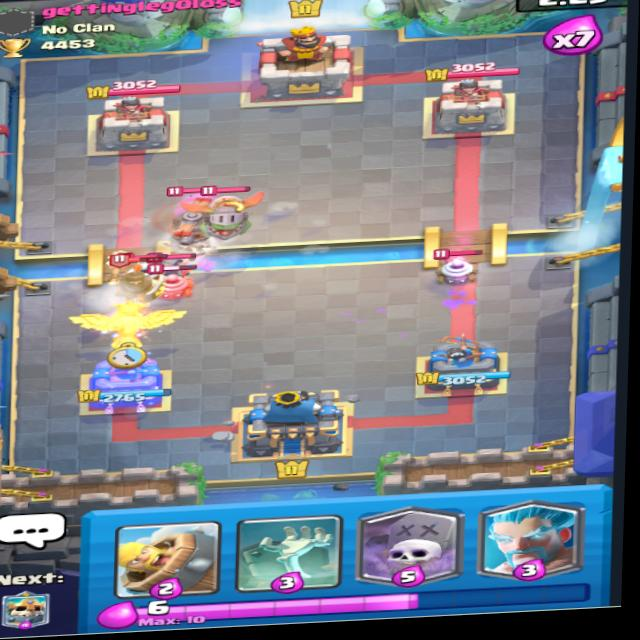dark-prince: (103, 251, 162, 305)
flying-machine: (144, 183, 222, 249)
inferno-dragon: (200, 178, 259, 242)
mini-pekka: (153, 254, 200, 275)
zappie: (421, 240, 487, 283), (149, 261, 200, 300)
